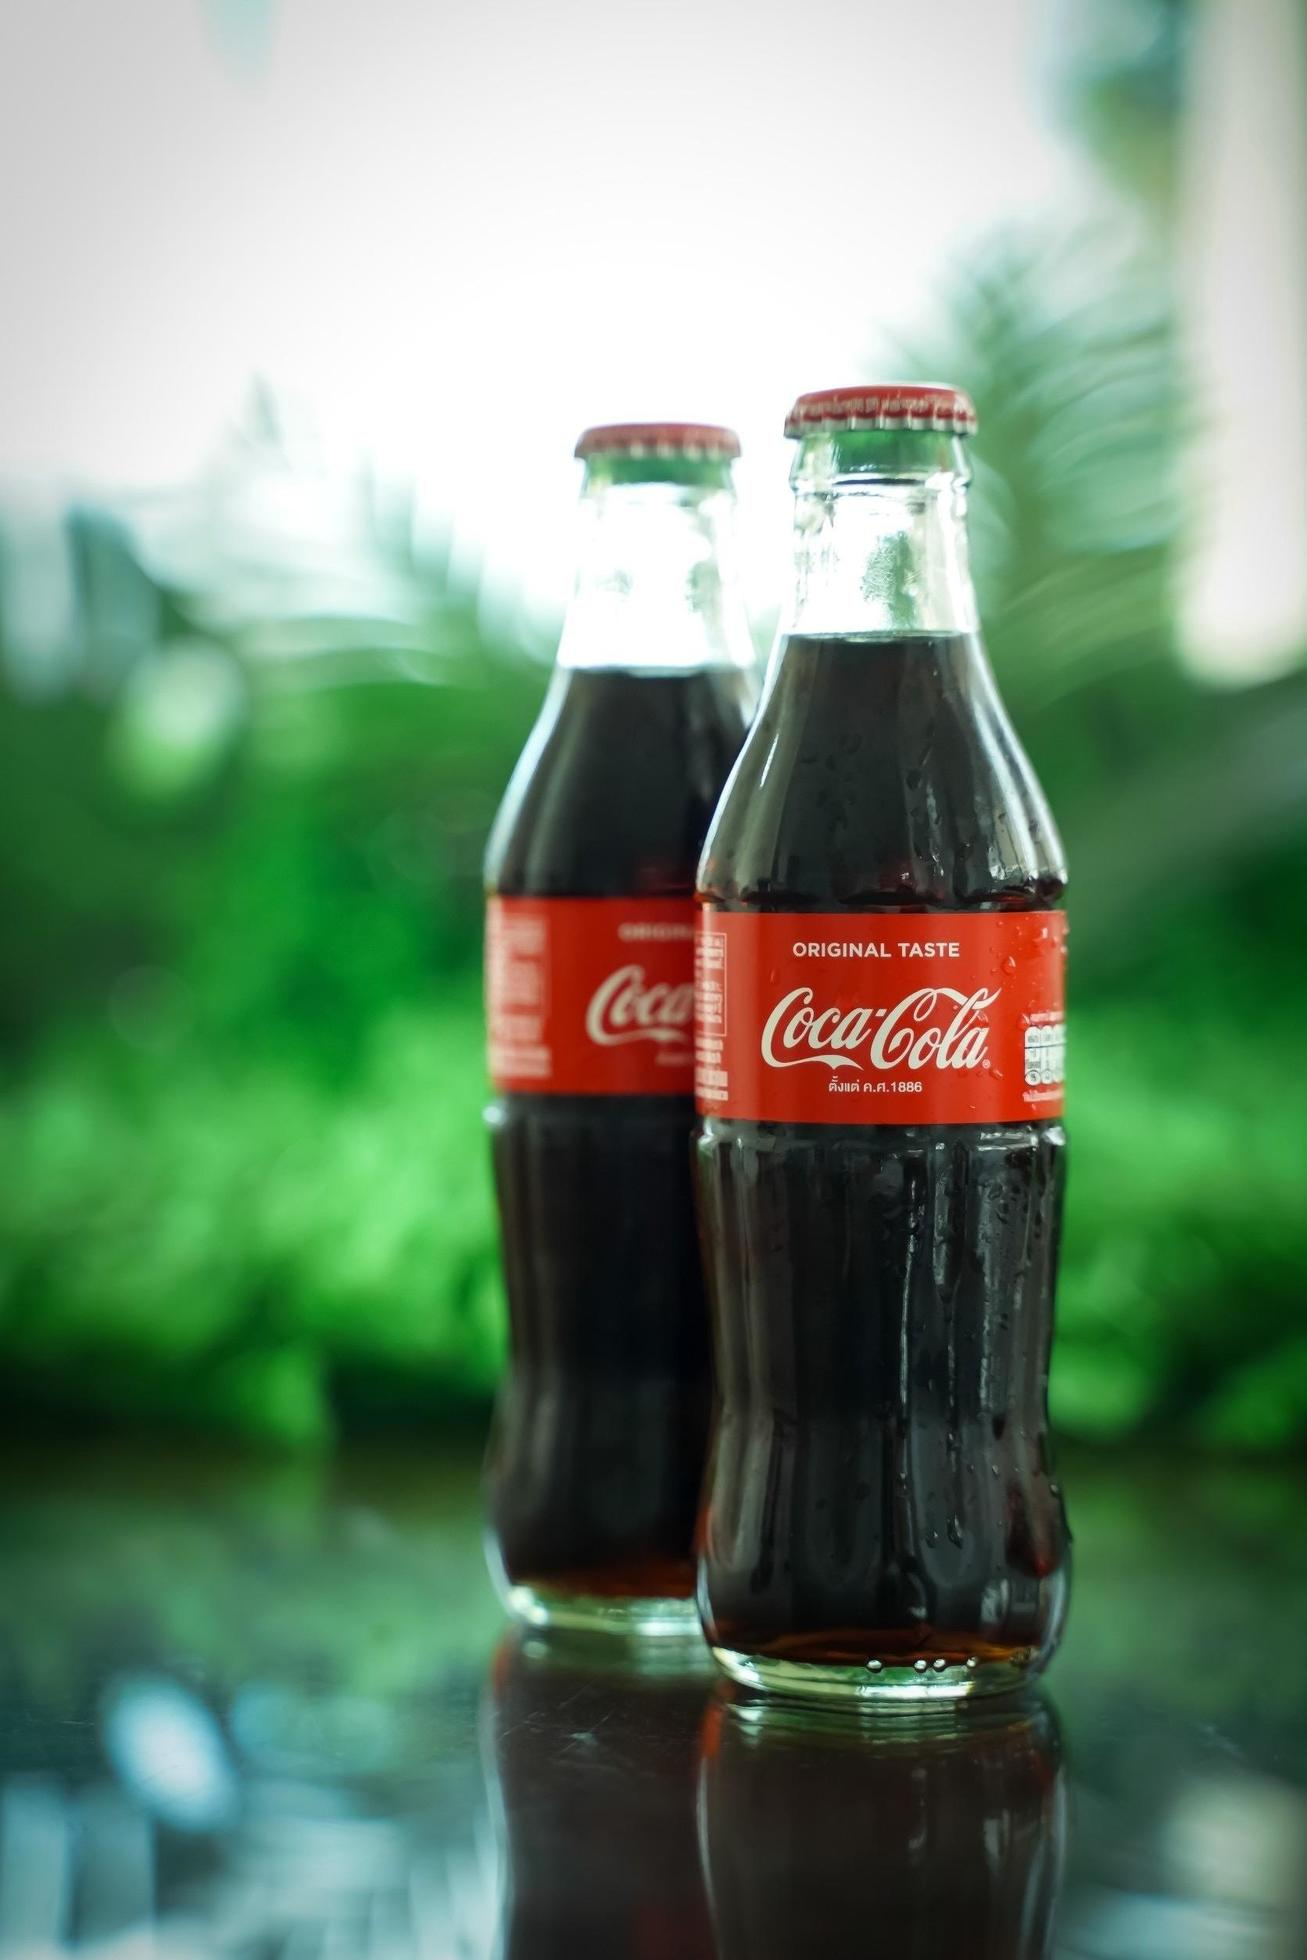glass_bottle: (461, 347, 1110, 1746)
